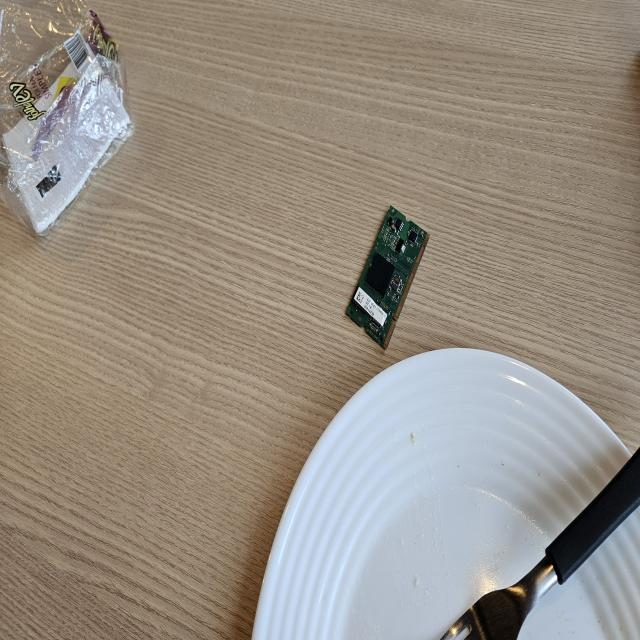som: (337, 200, 431, 351)
